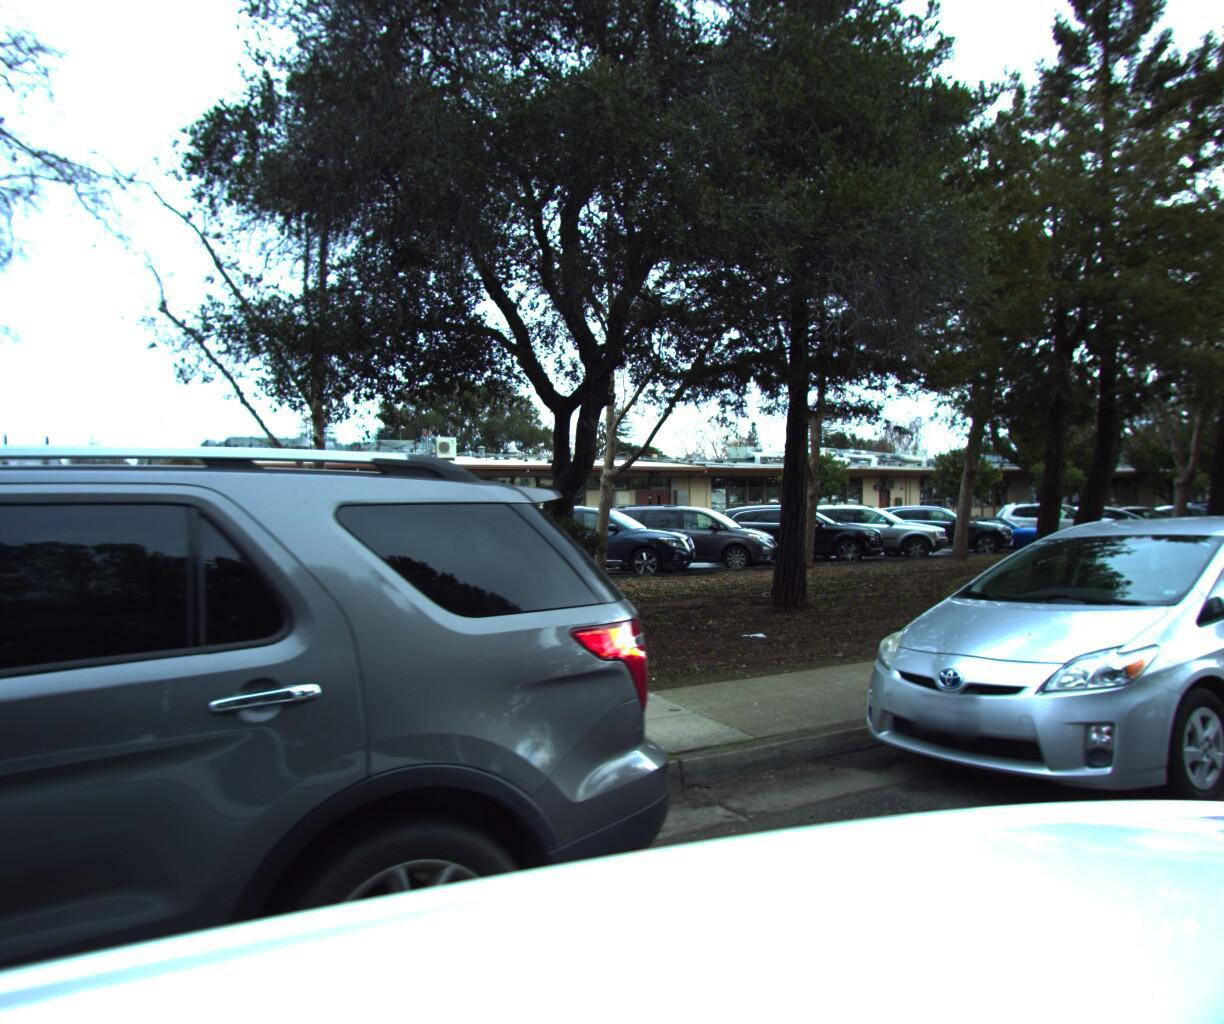car: (0, 40, 771, 1024), (817, 498, 1224, 874)
